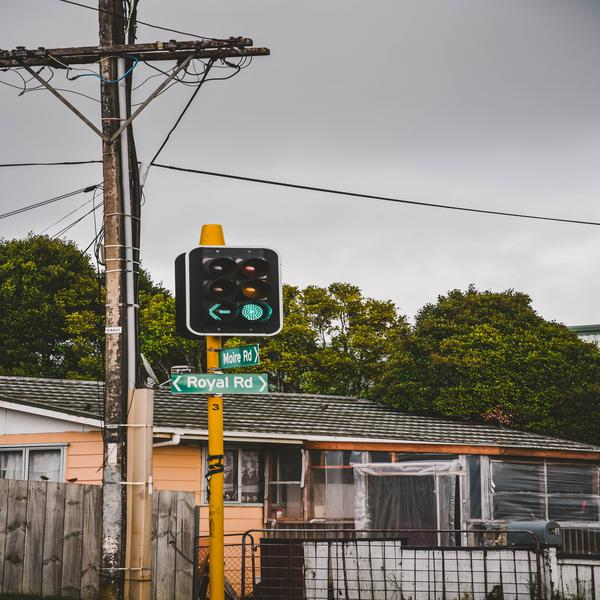utility_pole: (1, 1, 275, 199)
